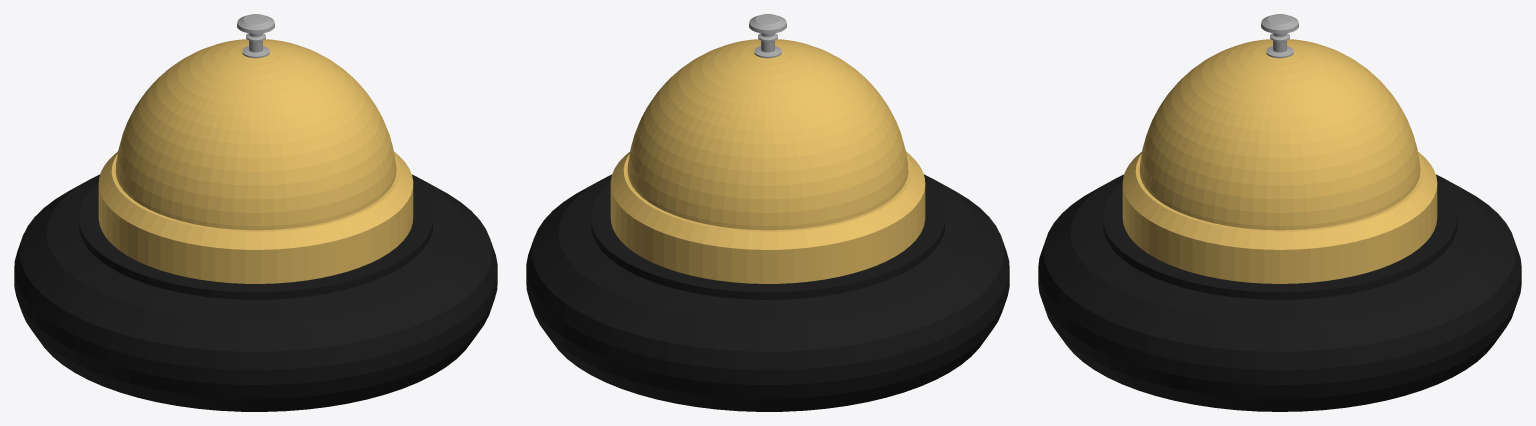
The model's file is Bell.fbx.
3 renders of one model, left to right at view 1: azimuth 30°, elevation 25°; view 2: azimuth 150°, elevation 25°; view 3: azimuth 270°, elevation 25°, orthographic.
Parts seen in each view (by area): view 1: Bell; view 2: Bell; view 3: Bell.
Boxes of the visible parts, x1=… form: Bell: x1=14, y1=14, x2=497, y2=411; Bell: x1=526, y1=14, x2=1009, y2=411; Bell: x1=1038, y1=14, x2=1521, y2=411.
Size of the model in its own units: 217 by 148 by 217.
